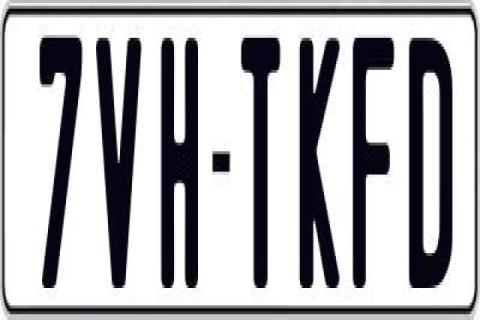0: (39, 32, 83, 294)
D: (409, 35, 458, 303)
F: (353, 29, 399, 279)
H: (158, 29, 202, 297)
K: (300, 38, 344, 288)
T: (242, 32, 282, 294)
V: (95, 32, 147, 294)
